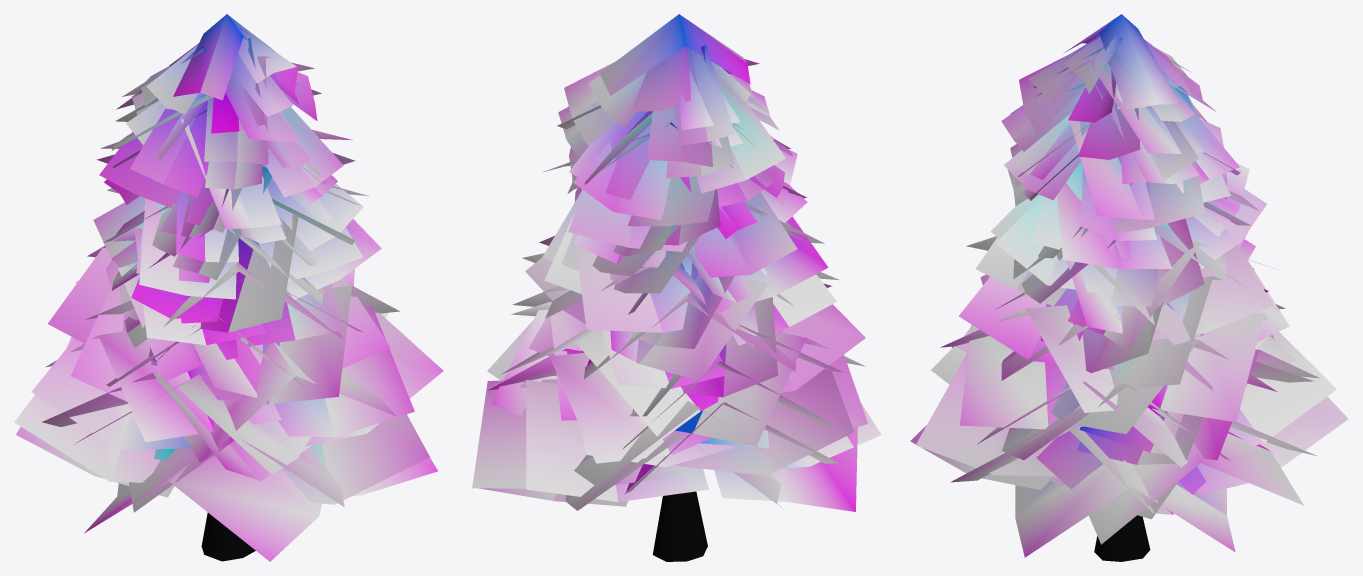
Rendered from fir_tree_01_a.dae.
3 views of the same model, side by side, from view 1: azimuth 30°, elevation 25°; view 2: azimuth 150°, elevation 25°; view 3: azimuth 270°, elevation 25° (orthographic).
Visible parts, largest first — view 1: tanne128; view 2: tanne128; view 3: tanne128.
Boxes of the visible parts, bbox=[...] form: tanne128: bbox=[14, 14, 443, 561]; tanne128: bbox=[472, 14, 881, 561]; tanne128: bbox=[910, 14, 1348, 561].
Size of what is drawn, in the model's own units: 11.69 by 12.41 by 16.77.
